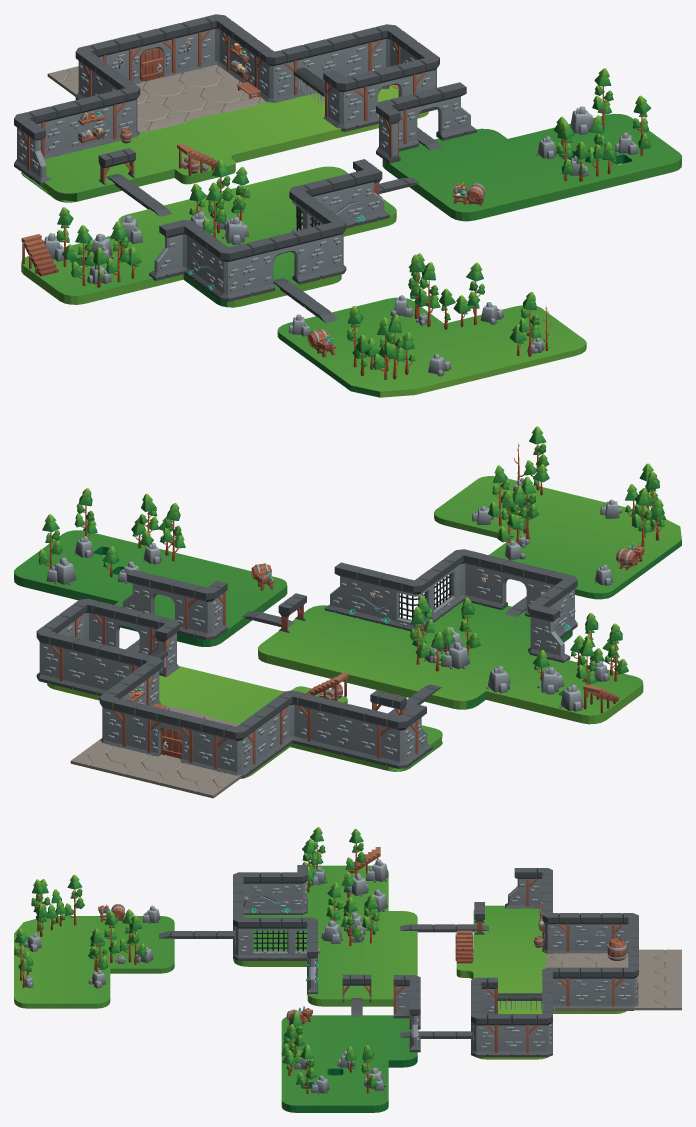
File: Level 1 Polished.fbx
3 renders of one model, top to bottom at view 1: azimuth 30°, elevation 25°; view 2: azimuth 150°, elevation 25°; view 3: azimuth 270°, elevation 25°, orthographic. The views are drawn at different scales.
Parts seen in each view (by area): view 1: Cube.064, Cube.027, Cube.031, Cube.065, floor_tile_large.019, wall_shelves.006, wall_corner_scaffold.012, wall_corner_scaffold.008, wall_cracked.003, floor_tile_large.020, wall_doorway.002, wall_doorway.001 (+48 smaller); view 2: Cube.065, Cube.027, Cube.064, Cube.031, wall_shelves.006, wall_cracked.003, wall_corner_scaffold.010, wall_corner_scaffold.011, floor_tile_large.022, wall_corner_scaffold.006, floor_tile_large.021, wall.025 (+39 smaller); view 3: Cube.065, Cube.027, Cube.064, Cube.031, wall_cracked.002, wall_shelves.001, wall.024, wall_gated.002, floor_tile_large.021, floor_tile_large.022, wall_half.011, wall_corner_scaffold.009 (+21 smaller).
Boxes of the visible parts, box(x1,y1,x2,y2) form: Cube.064: box(382, 113, 681, 221); Cube.027: box(277, 297, 586, 397); Cube.031: box(21, 85, 428, 202); Cube.065: box(21, 166, 396, 307); floor_tile_large.019: box(164, 71, 265, 116); wall_shelves.006: box(62, 92, 114, 153); wall_corner_scaffold.012: box(323, 70, 368, 131); wall_corner_scaffold.008: box(253, 44, 298, 102); wall_cracked.003: box(315, 170, 366, 228); floor_tile_large.020: box(137, 87, 203, 132); wall_doorway.002: box(402, 85, 453, 149); wall_doorway.001: box(258, 229, 309, 293); Cube.065: box(258, 601, 643, 724); Cube.027: box(434, 476, 681, 599); Cube.064: box(14, 530, 287, 646); Cube.031: box(47, 666, 442, 777); wall_shelves.006: box(309, 696, 359, 757); wall_cracked.003: box(346, 565, 397, 626); wall_corner_scaffold.010: box(376, 709, 419, 768); wall_corner_scaffold.011: box(184, 580, 227, 640); floor_tile_large.022: box(142, 756, 241, 798); wall_corner_scaffold.006: box(213, 719, 257, 778); floor_tile_large.021: box(70, 739, 171, 780); wall.025: box(86, 641, 137, 695); Cube.065: box(233, 865, 417, 1006); Cube.027: box(14, 916, 174, 1008); Cube.064: box(281, 1015, 417, 1112); Cube.031: box(456, 905, 626, 1059); wall_cracked.002: box(249, 872, 291, 914); wall_shelves.001: box(569, 967, 611, 1010); wall.024: box(569, 913, 611, 953); wall_gated.002: box(249, 917, 290, 960); floor_tile_large.021: box(613, 979, 681, 1010); floor_tile_large.022: box(613, 949, 681, 979); wall_half.011: box(496, 1014, 526, 1057); wall_corner_scaffold.009: box(526, 1007, 552, 1057).
Size of the model in its own units: 10594 by 1202 by 12465.
32 materials, 32 textured.
